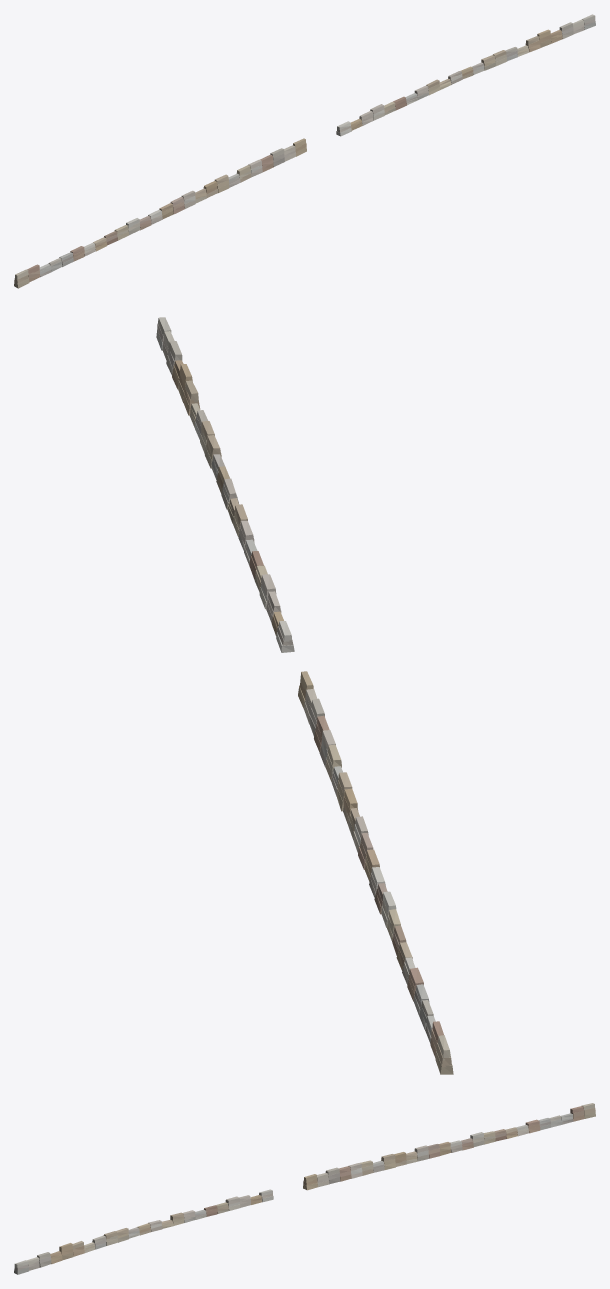
The model's file is farm_1_-2_mid.glb.
3 views of the same model, one above another, from view 1: azimuth 90°, elevation 25°; view 2: azimuth 150°, elevation 25°; view 3: azimuth 270°, elevation 25° (orthographic). The views are drawn at different scales.
Parts seen in each view (by area): view 1: geometry_0; view 2: geometry_0; view 3: geometry_0.
Boxes of the visible parts, x1=… form: geometry_0: x1=14, y1=14, x2=595, y2=288; geometry_0: x1=156, y1=317, x2=453, y2=1074; geometry_0: x1=14, y1=1103, x2=595, y2=1274.
Bounding box in the file's own units: 54.14 × 7.51 × 62.64.
